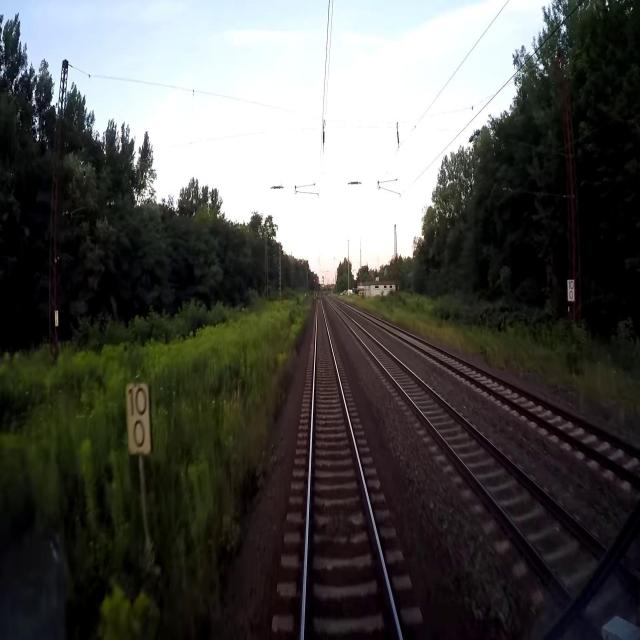rail-track: (305, 298, 398, 639)
